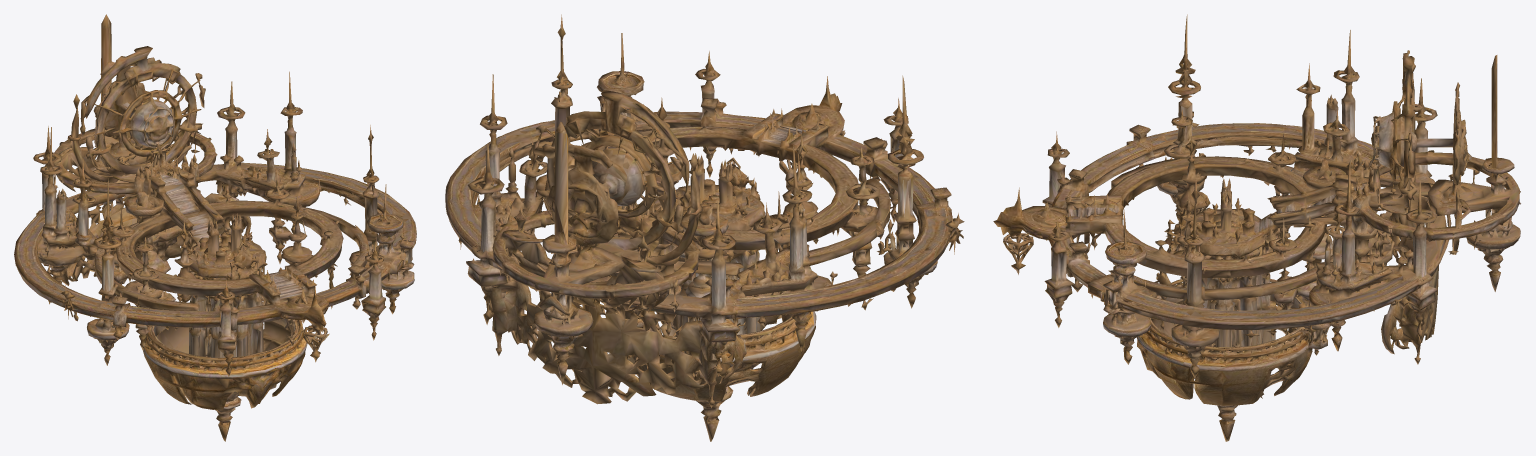
The model's file is Celestial_Golden_Cita.glb.
3 renders of one model, left to right at view 1: azimuth 30°, elevation 25°; view 2: azimuth 150°, elevation 25°; view 3: azimuth 270°, elevation 25°, orthographic. The views are drawn at different scales.
Visible parts, largest first — view 1: Celestial_Golden_Cita; view 2: Celestial_Golden_Cita; view 3: Celestial_Golden_Cita.
Boxes of the visible parts, x1,y1,x2,y2 form: Celestial_Golden_Cita: [14, 14, 416, 441]; Celestial_Golden_Cita: [445, 14, 964, 441]; Celestial_Golden_Cita: [993, 14, 1520, 441].
Size of the model in its own units: 1.71 by 1.54 by 1.9.
Materials: 1 (1 with a texture image).
